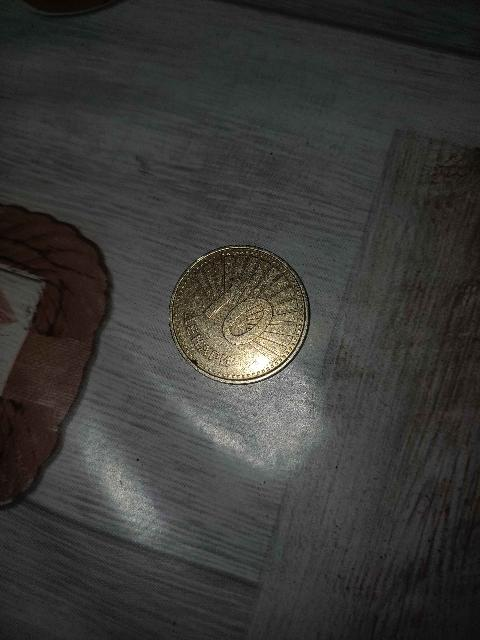10_coin: (170, 246, 308, 383)
